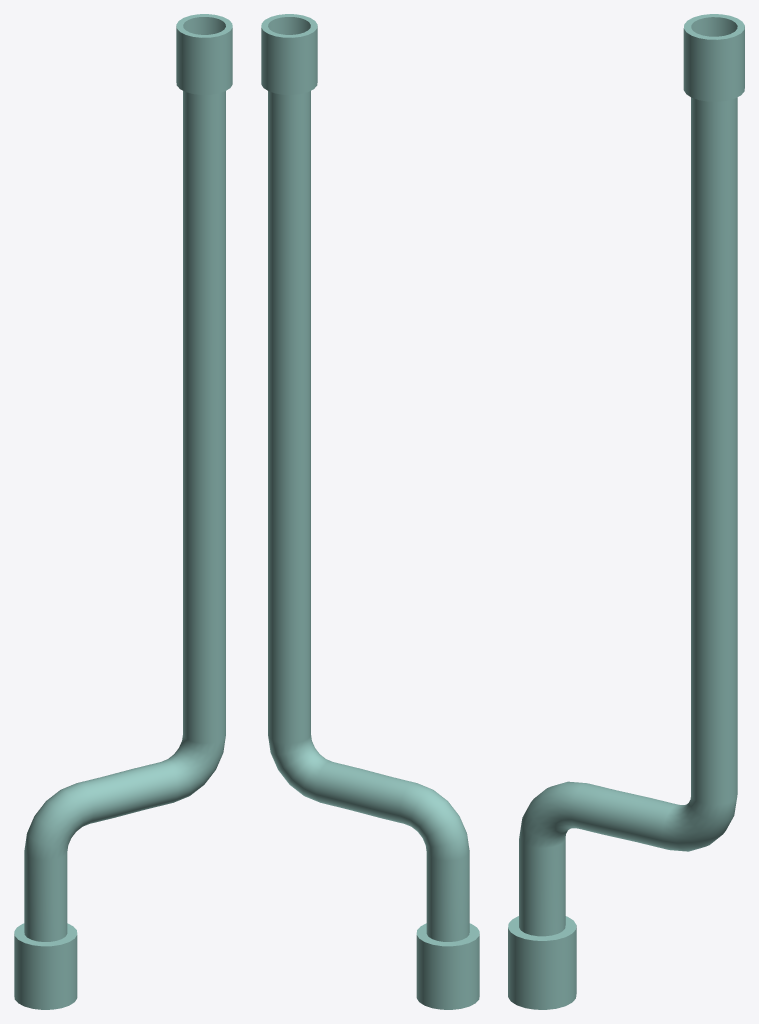
Rendered from Pipe_Vertical_Curved_6.fbx.
The picture shows the model from 3 angles, left to right: view 1: azimuth 30°, elevation 25°; view 2: azimuth 150°, elevation 25°; view 3: azimuth 330°, elevation 25°; orthographic projection. The views are drawn at different scales.
Visible parts, largest first — view 1: Pipe_Vertical_Curved_6; view 2: Pipe_Vertical_Curved_6; view 3: Pipe_Vertical_Curved_6.
Part boxes in pixels (x1,y1,x2,y2): Pipe_Vertical_Curved_6: [14, 14, 232, 1009]; Pipe_Vertical_Curved_6: [261, 14, 479, 1009]; Pipe_Vertical_Curved_6: [508, 14, 744, 1009].
Size of the model in its own units: 72.28 by 305 by 18.87.
